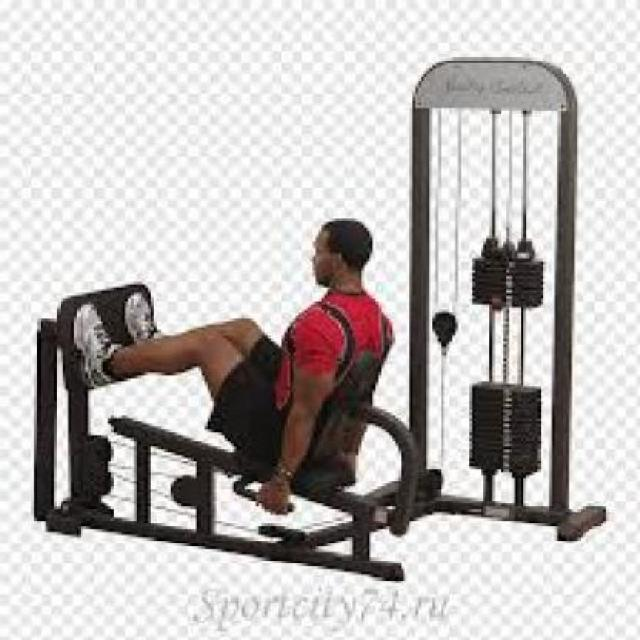leg press: (25, 45, 620, 583)
